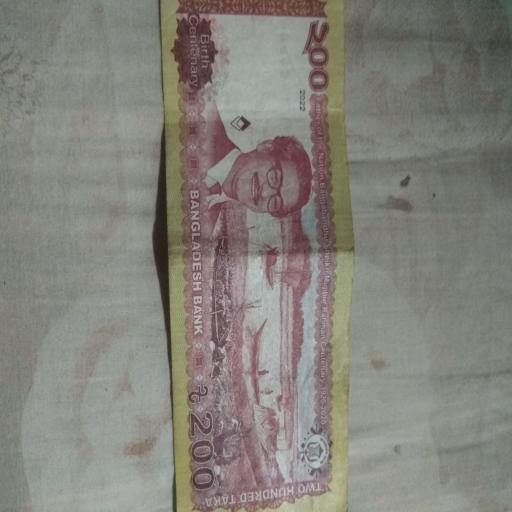200taka: (163, 0, 349, 509)
